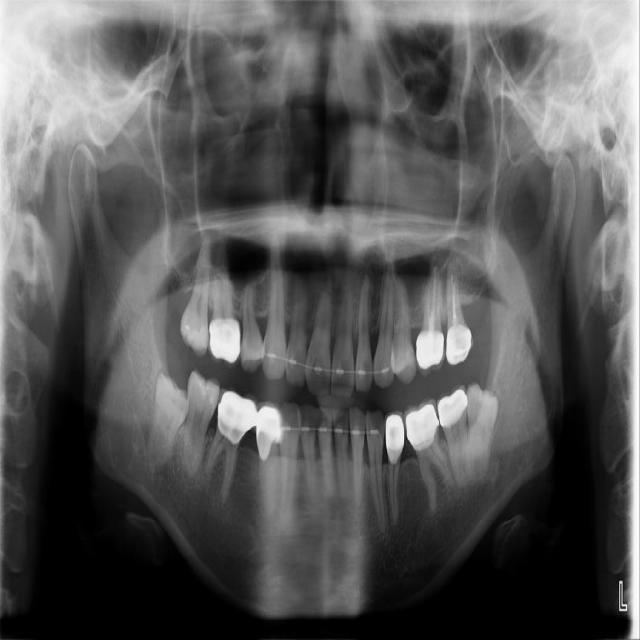Crown: (217, 387, 257, 446), (404, 396, 439, 451), (207, 317, 241, 367), (256, 400, 282, 463), (415, 329, 445, 378), (437, 387, 467, 430), (384, 410, 405, 465), (445, 325, 473, 366)
Filling: (193, 375, 217, 406), (183, 323, 204, 349)
Root Canal Treatment: (450, 269, 459, 329), (430, 271, 438, 326)
impacted tooth: (145, 372, 189, 475), (466, 383, 498, 482)
